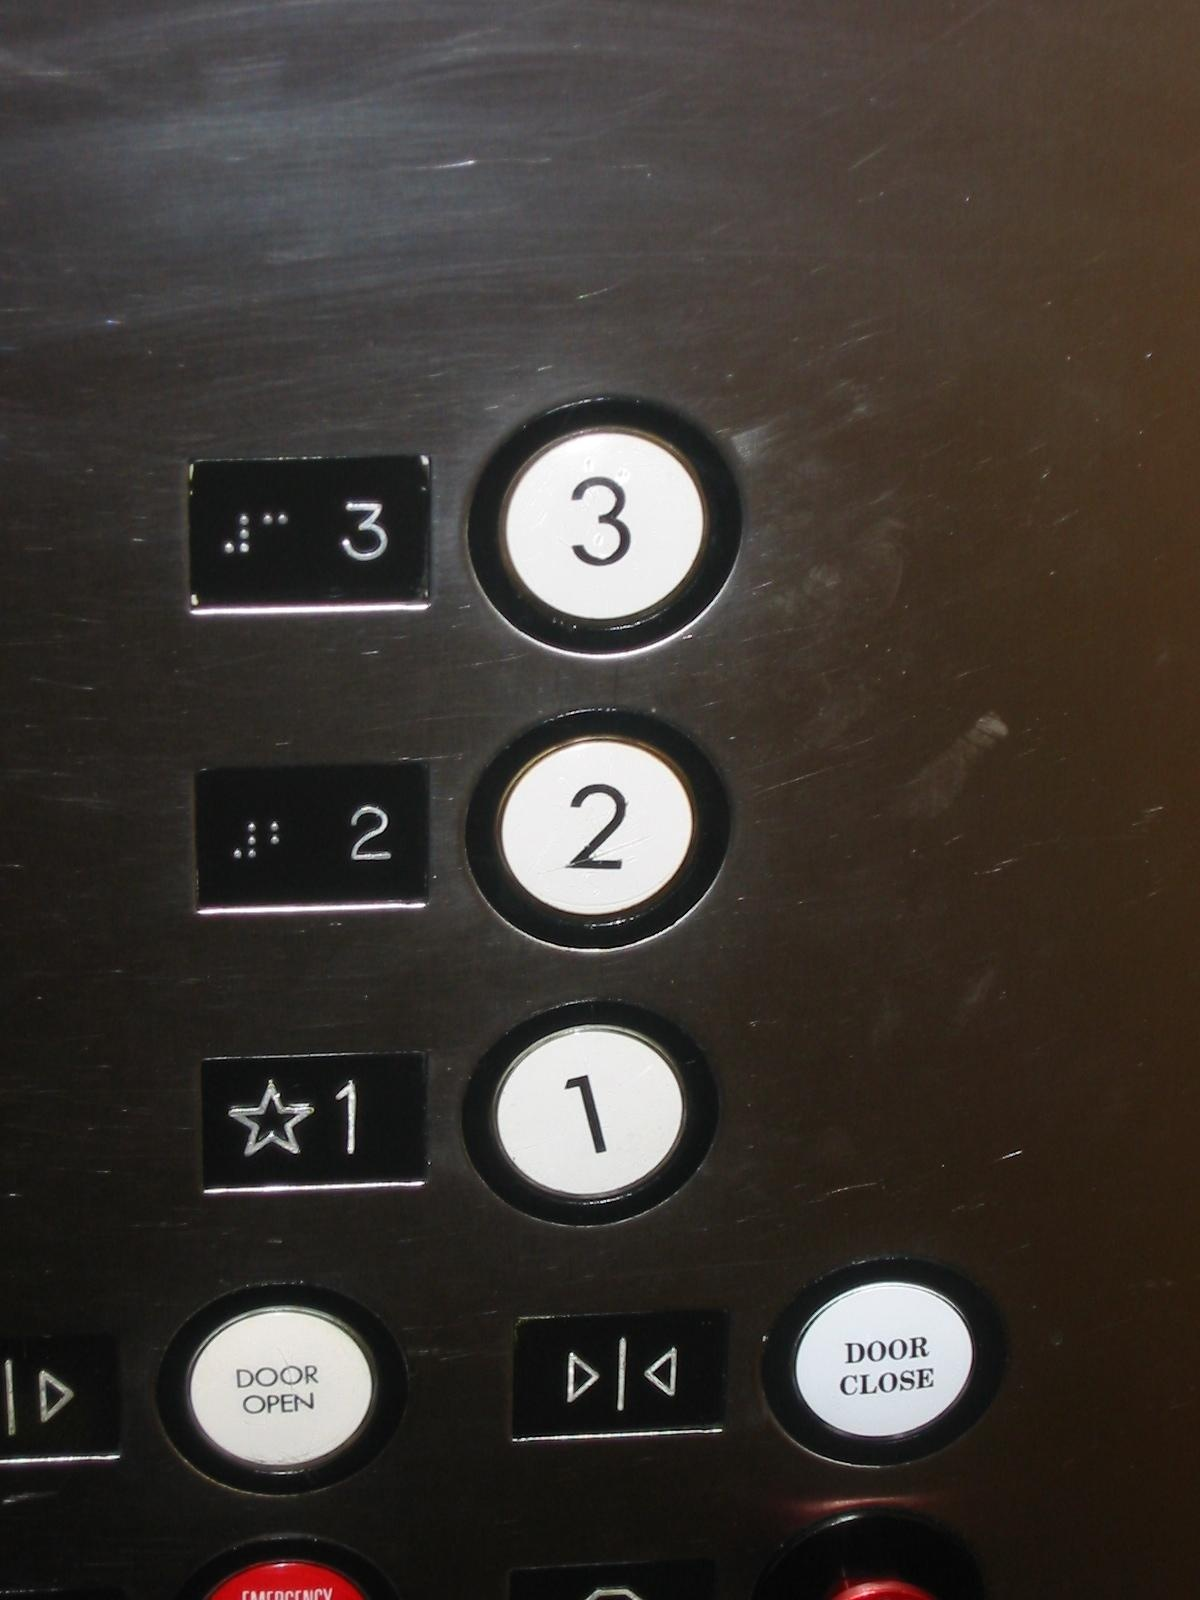1: (458, 994, 725, 1228)
2: (458, 700, 730, 950), (193, 755, 427, 916)
3: (464, 389, 744, 656), (179, 437, 447, 620)
close: (503, 1308, 735, 1445)
s1: (205, 1052, 430, 1203)
text_close: (764, 1252, 1010, 1469)
text_open: (149, 1272, 415, 1490)
